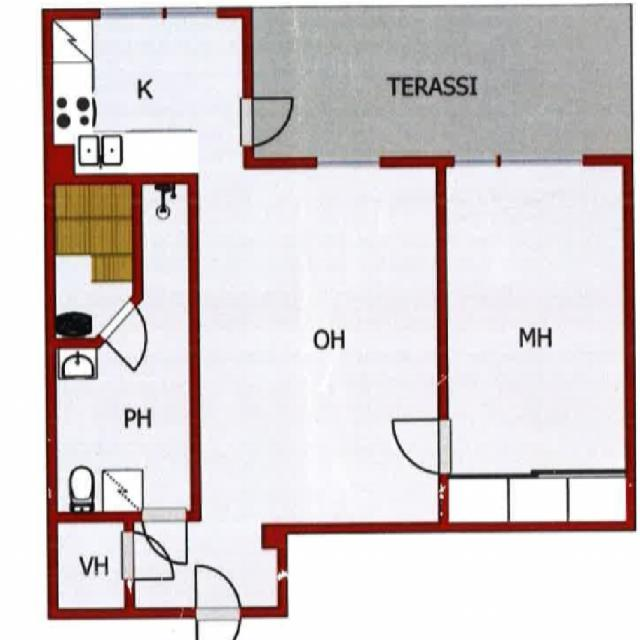door: (98, 299, 167, 374), (389, 419, 448, 473), (195, 556, 240, 616), (244, 98, 298, 146), (142, 511, 186, 569), (123, 532, 176, 580), (195, 606, 240, 640)
